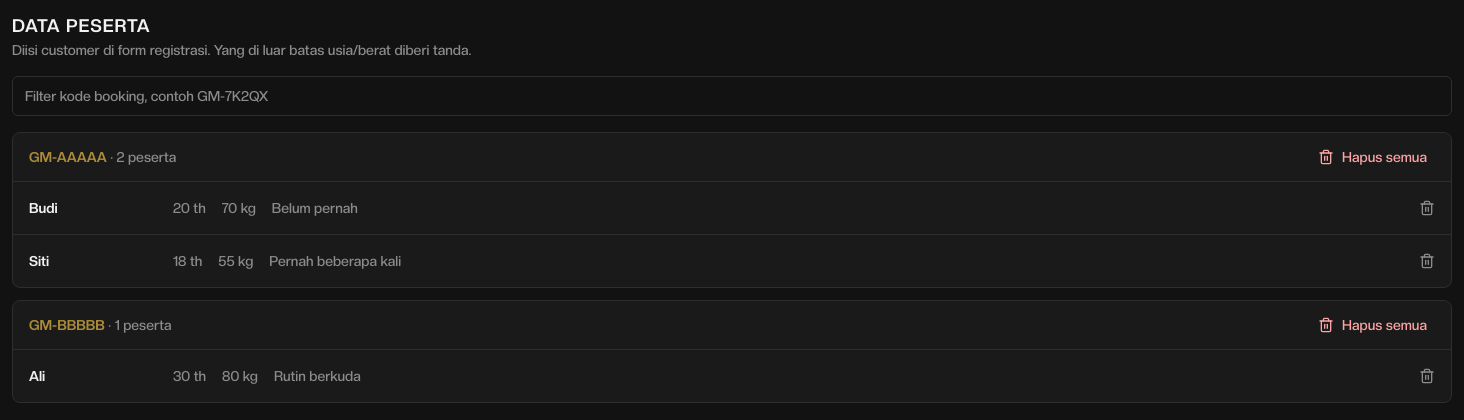
Test: RegistrationsSection delete › deletes only the riders of that booking with Hapus semua
Expected: the text "Budi" is shown, [29, 200, 58, 216]
Click the button "Hapus semua" in the row of "GM-AAAAA".
click(1373, 157)  # box [1310, 141, 1435, 173]
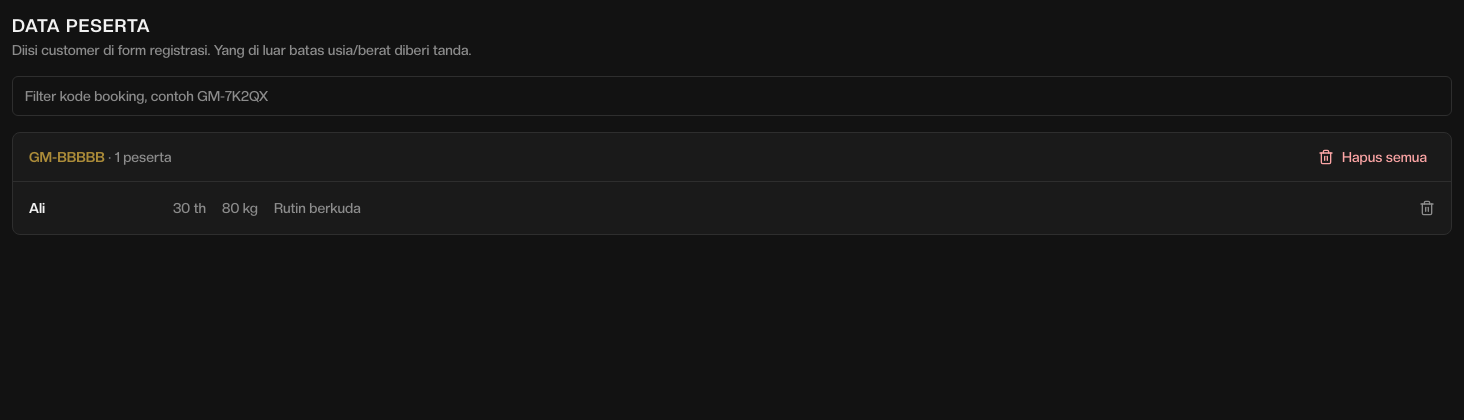
Expected: the text "Ali" is shown, [29, 200, 45, 216]
Expected: the text "Siti" is gone
